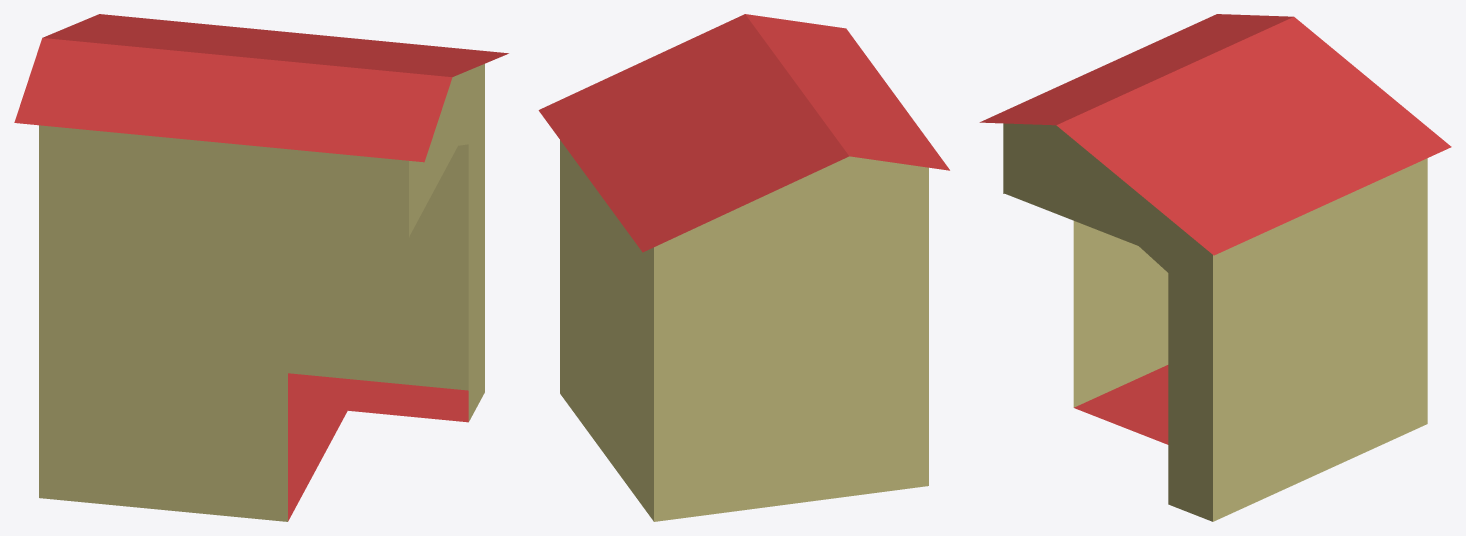
3 views of the same model, side by side, from view 1: azimuth 30°, elevation 25°; view 2: azimuth 150°, elevation 25°; view 3: azimuth 270°, elevation 25° (orthographic). The views are drawn at different scales.
Bounding box in the file's own units: 13.85 × 13.8 × 11.12.
